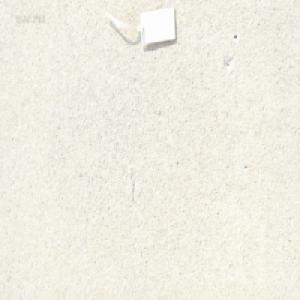LuggageTag: (102, 5, 177, 52)
